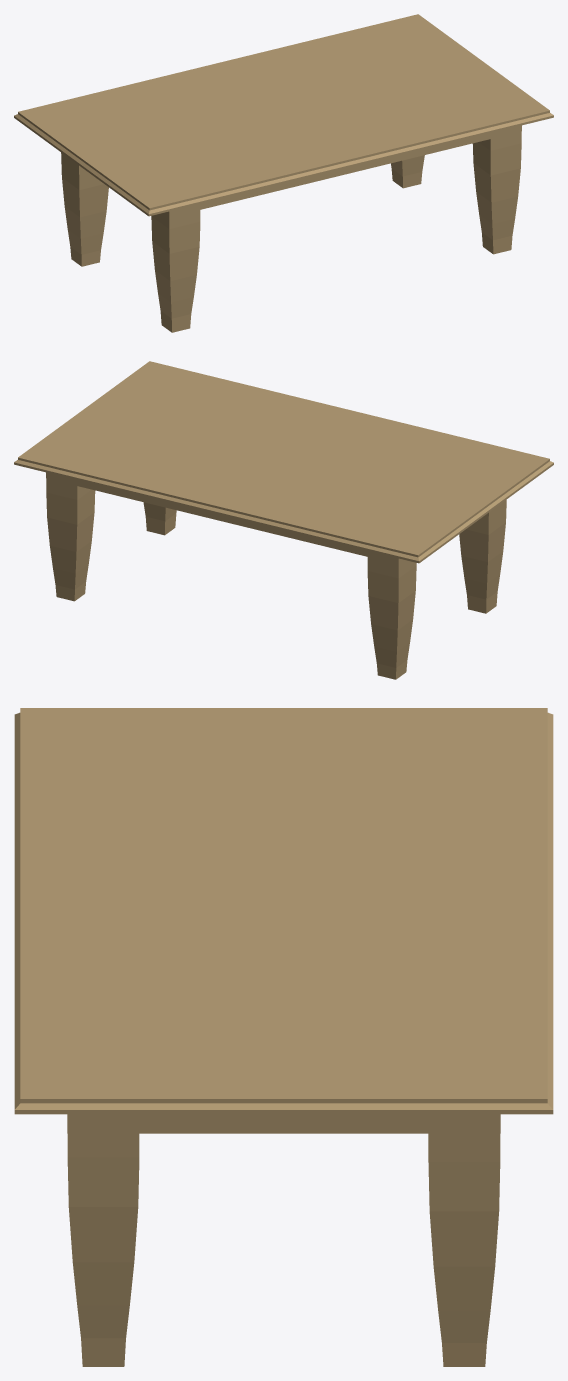
Rendered from DiningRoomTable.fbx.
3 views of the same model, one above another, from view 1: azimuth 30°, elevation 25°; view 2: azimuth 150°, elevation 25°; view 3: azimuth 270°, elevation 25° (orthographic). The views are drawn at different scales.
Visible parts, largest first — view 1: Table; view 2: Table; view 3: Table.
Part boxes in pixels (x1,y1,x2,y2): Table: [14, 14, 553, 332]; Table: [14, 361, 553, 679]; Table: [14, 708, 553, 1366].
Bounding box in the file's own units: 260 × 89.18 × 150.
